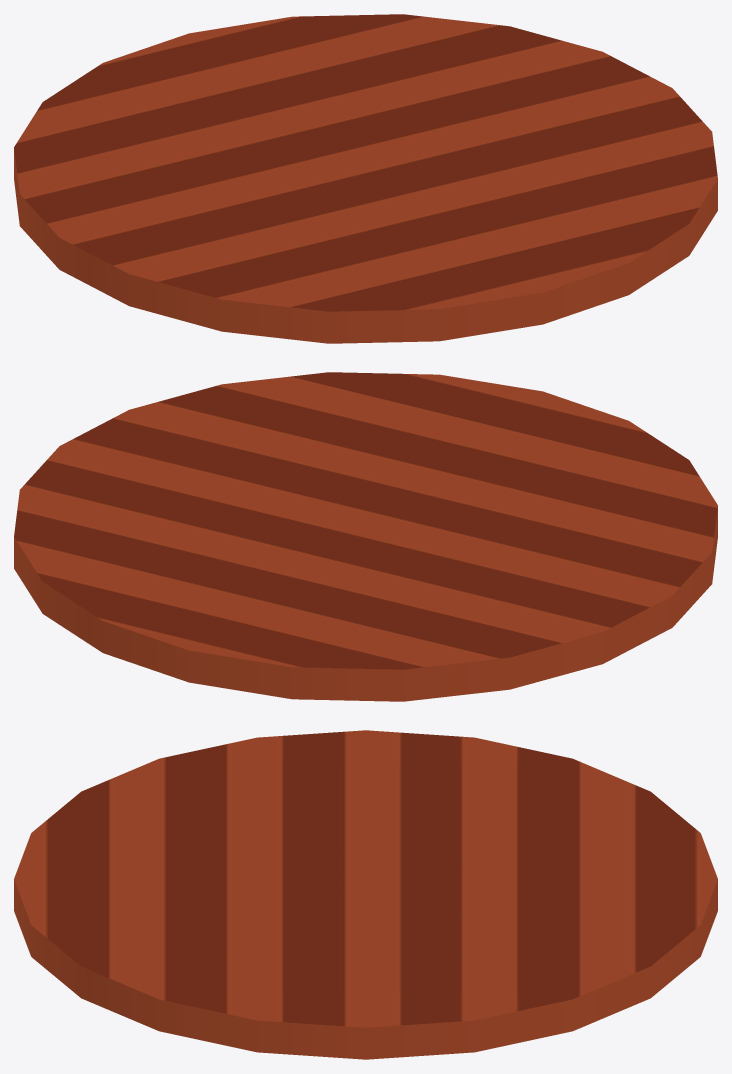
The model's file is Patty_Slice_Patty_0.glb.
3 renders of one model, top to bottom at view 1: azimuth 30°, elevation 25°; view 2: azimuth 150°, elevation 25°; view 3: azimuth 270°, elevation 25°, orthographic.
Visible parts, largest first — view 1: Patty_Slice_Patty_0; view 2: Patty_Slice_Patty_0; view 3: Patty_Slice_Patty_0.
Boxes of the visible parts, x1,y1,x2,y2 form: Patty_Slice_Patty_0: (14,14,717,343); Patty_Slice_Patty_0: (14,372,717,701); Patty_Slice_Patty_0: (14,730,717,1059).
Size of the model in its own units: 0.2 by 0.01 by 0.2.
1 material, 1 textured.
